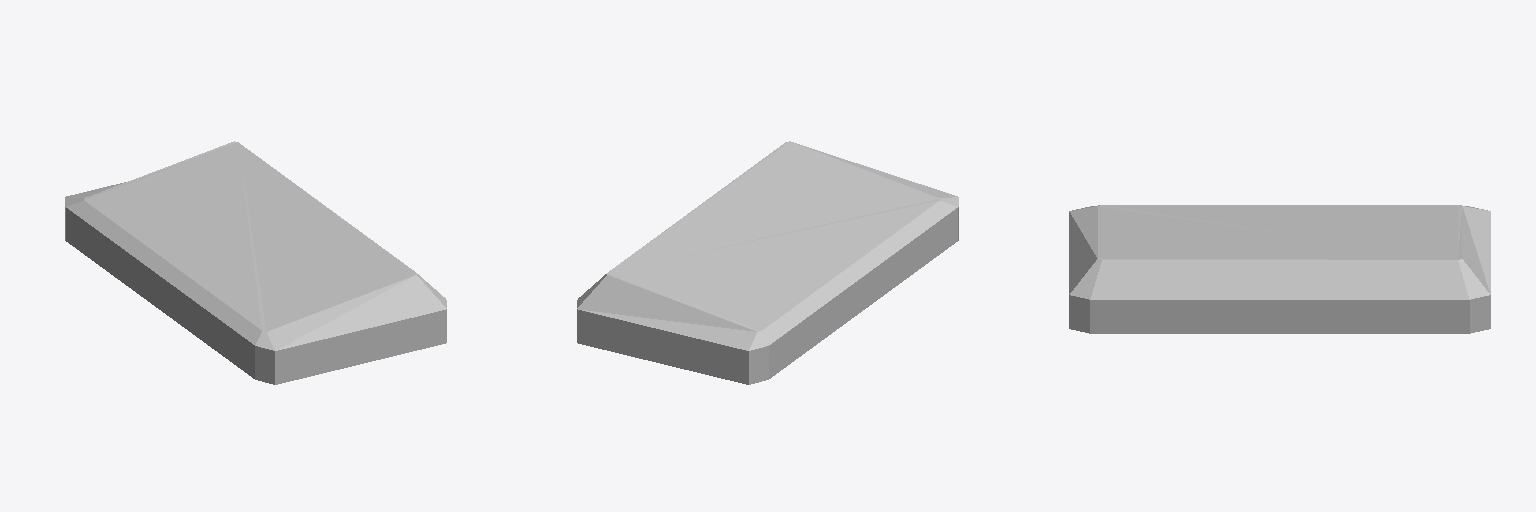
The model's file is Large Bin Lid.obj.
The picture shows the model from 3 angles: view 1: azimuth 30°, elevation 25°; view 2: azimuth 150°, elevation 25°; view 3: azimuth 270°, elevation 25°; orthographic projection.
Visible parts, largest first — view 1: Cube.001; view 2: Cube.001; view 3: Cube.001.
Boxes of the visible parts, <box> form: Cube.001: <box>65,141,446,384</box>; Cube.001: <box>577,141,958,384</box>; Cube.001: <box>1069,205,1490,333</box>.
Bounding box in the file's own units: 2.2 × 0.6823 × 4.2.